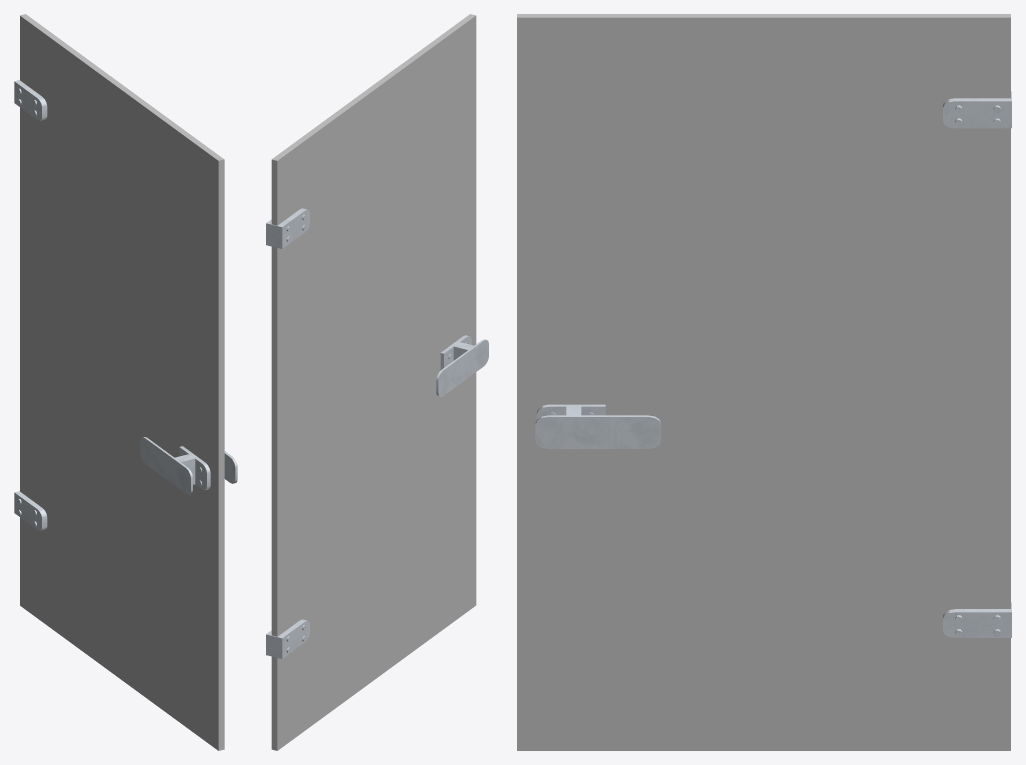
The model's file is SM_DoorGlass.fbx.
3 views of the same model, side by side, from view 1: azimuth 30°, elevation 25°; view 2: azimuth 150°, elevation 25°; view 3: azimuth 270°, elevation 25° (orthographic). The views are drawn at different scales.
Parts seen in each view (by area): view 1: SM_DoorGlass_LOD0; view 2: SM_DoorGlass_LOD0; view 3: SM_DoorGlass_LOD0.
Part boxes in pixels (bbox=[...]): SM_DoorGlass_LOD0: bbox=[14, 14, 237, 750]; SM_DoorGlass_LOD0: bbox=[266, 14, 488, 750]; SM_DoorGlass_LOD0: bbox=[517, 14, 1011, 750].
Bounding box in the file's own units: 18.43 × 136 × 222.
Materials: 2 (1 with a texture image).
